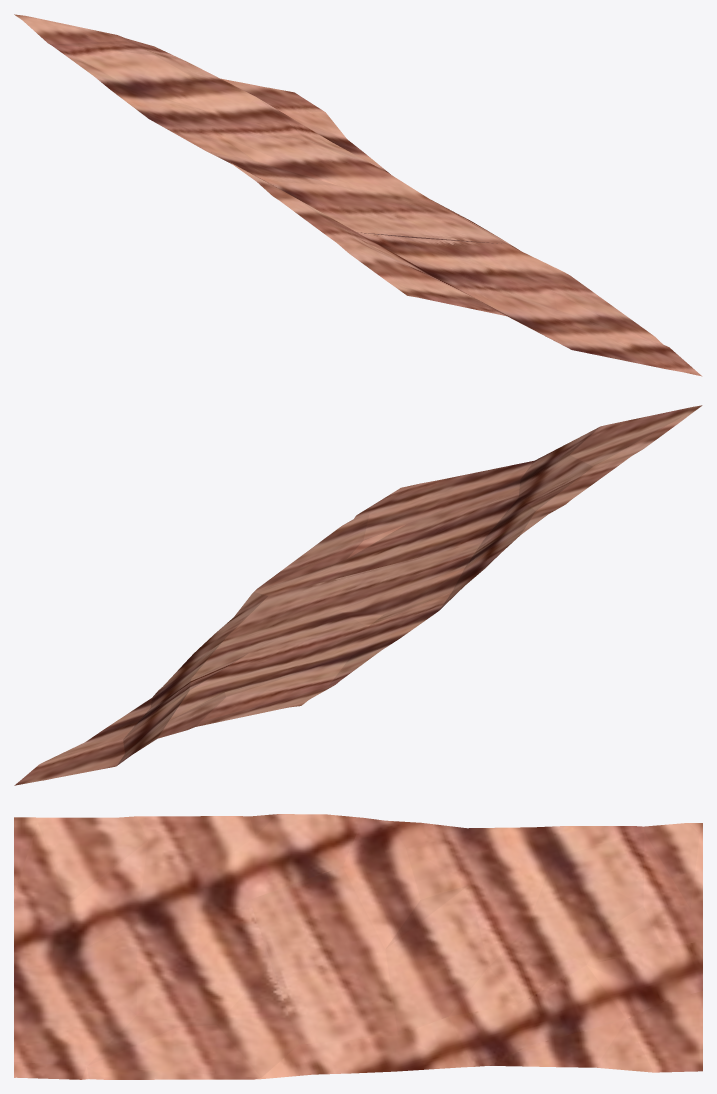
3 views of the same model, one above another, from view 1: azimuth 30°, elevation 25°; view 2: azimuth 150°, elevation 25°; view 3: azimuth 270°, elevation 25° (orthographic). The views are drawn at different scales.
Bounding box in the file's own units: 0.3697 × 0.1842 × 0.8374.
1 material, 1 textured.
